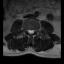CCS_normal: (30, 28, 32, 36)
LFS_normal: (34, 27, 36, 33)
LLS_normal: (32, 28, 34, 35)
RFS_normal: (26, 27, 28, 33)
RLS_normal: (28, 28, 30, 35)
